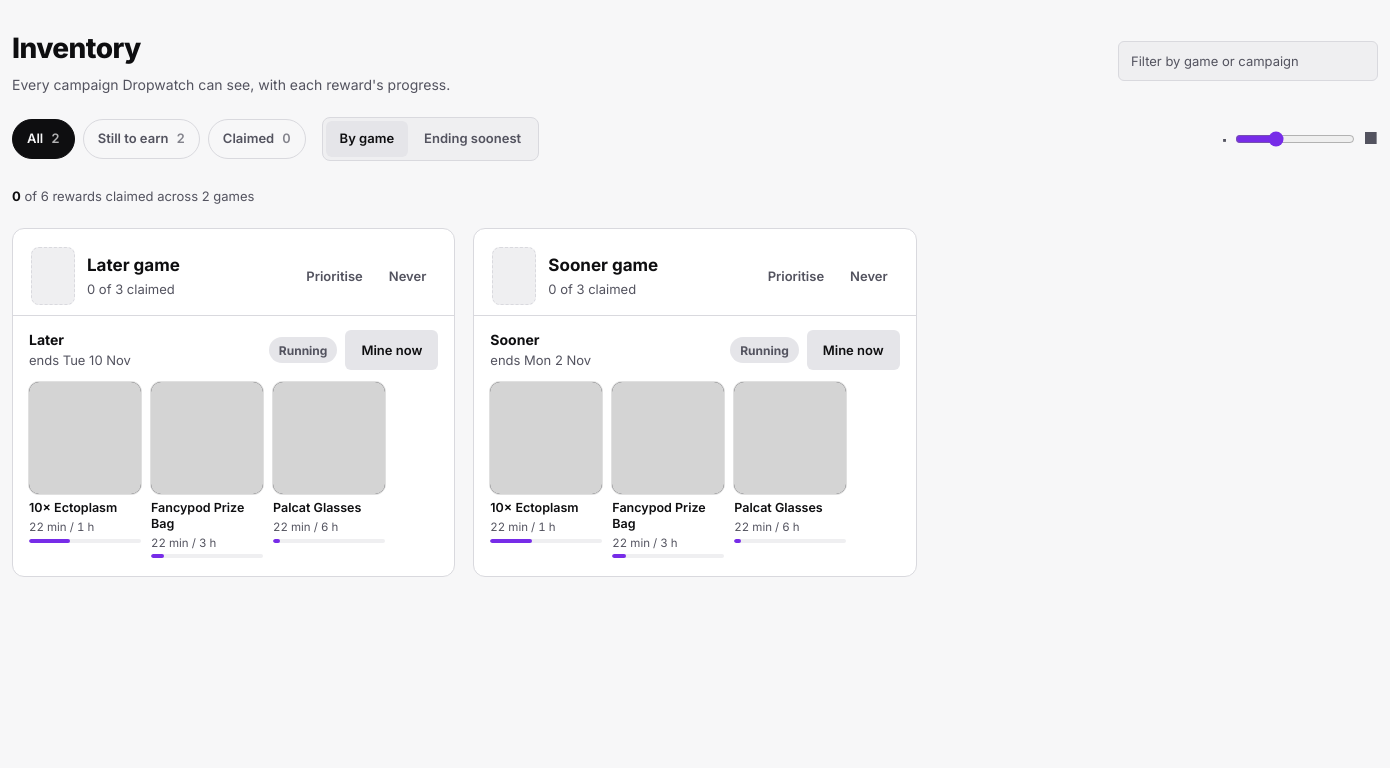
Test case: Ending soonest lists campaigns by end time across games
Expected: the heading "Later game" is shown, [87,255,180,275]
Click the button "Ending soonest": [473, 139] box [410,121,535,157]
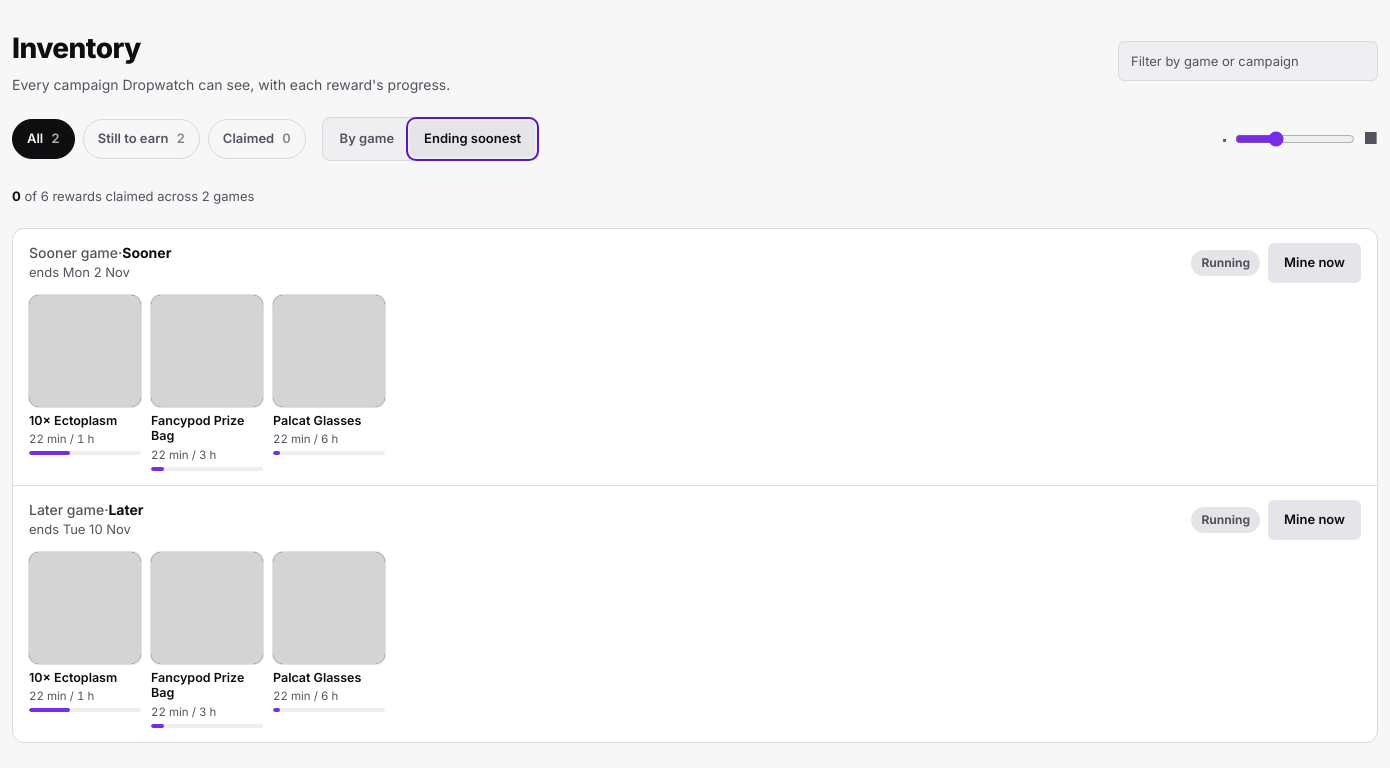
Result: the element with class "row-t" shows "Sooner" at [122,244,171,261]
Result: the element with class "row-t" shows "Later" at [108,501,144,518]
